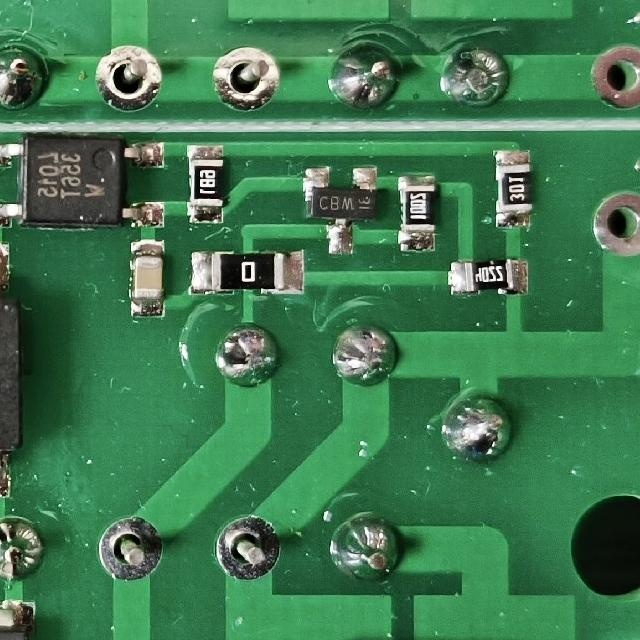chip-capacitor: (125, 234, 167, 319)
chip-resistor: (186, 244, 306, 296), (393, 169, 437, 257), (183, 140, 226, 227), (491, 145, 533, 231), (446, 255, 530, 298)
ic: (0, 133, 169, 231)
transistor: (296, 159, 380, 257)
